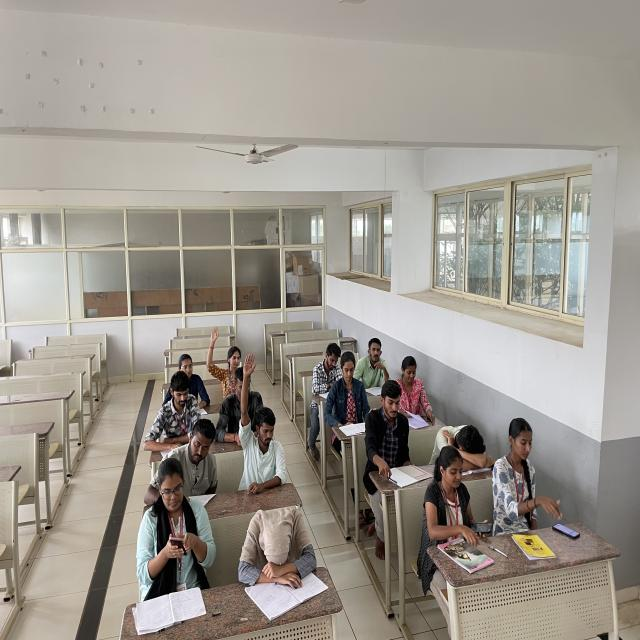Hand Rising: (232, 353, 304, 498), (204, 328, 244, 408)
Reading: (324, 345, 375, 431)
Sleeping: (230, 504, 332, 624), (423, 412, 498, 472)
Using Phone: (130, 453, 224, 617)
